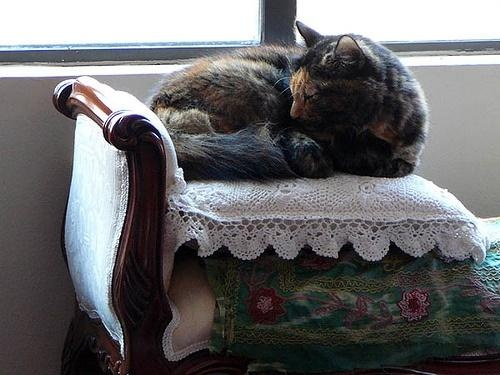cat: (146, 22, 432, 180)
